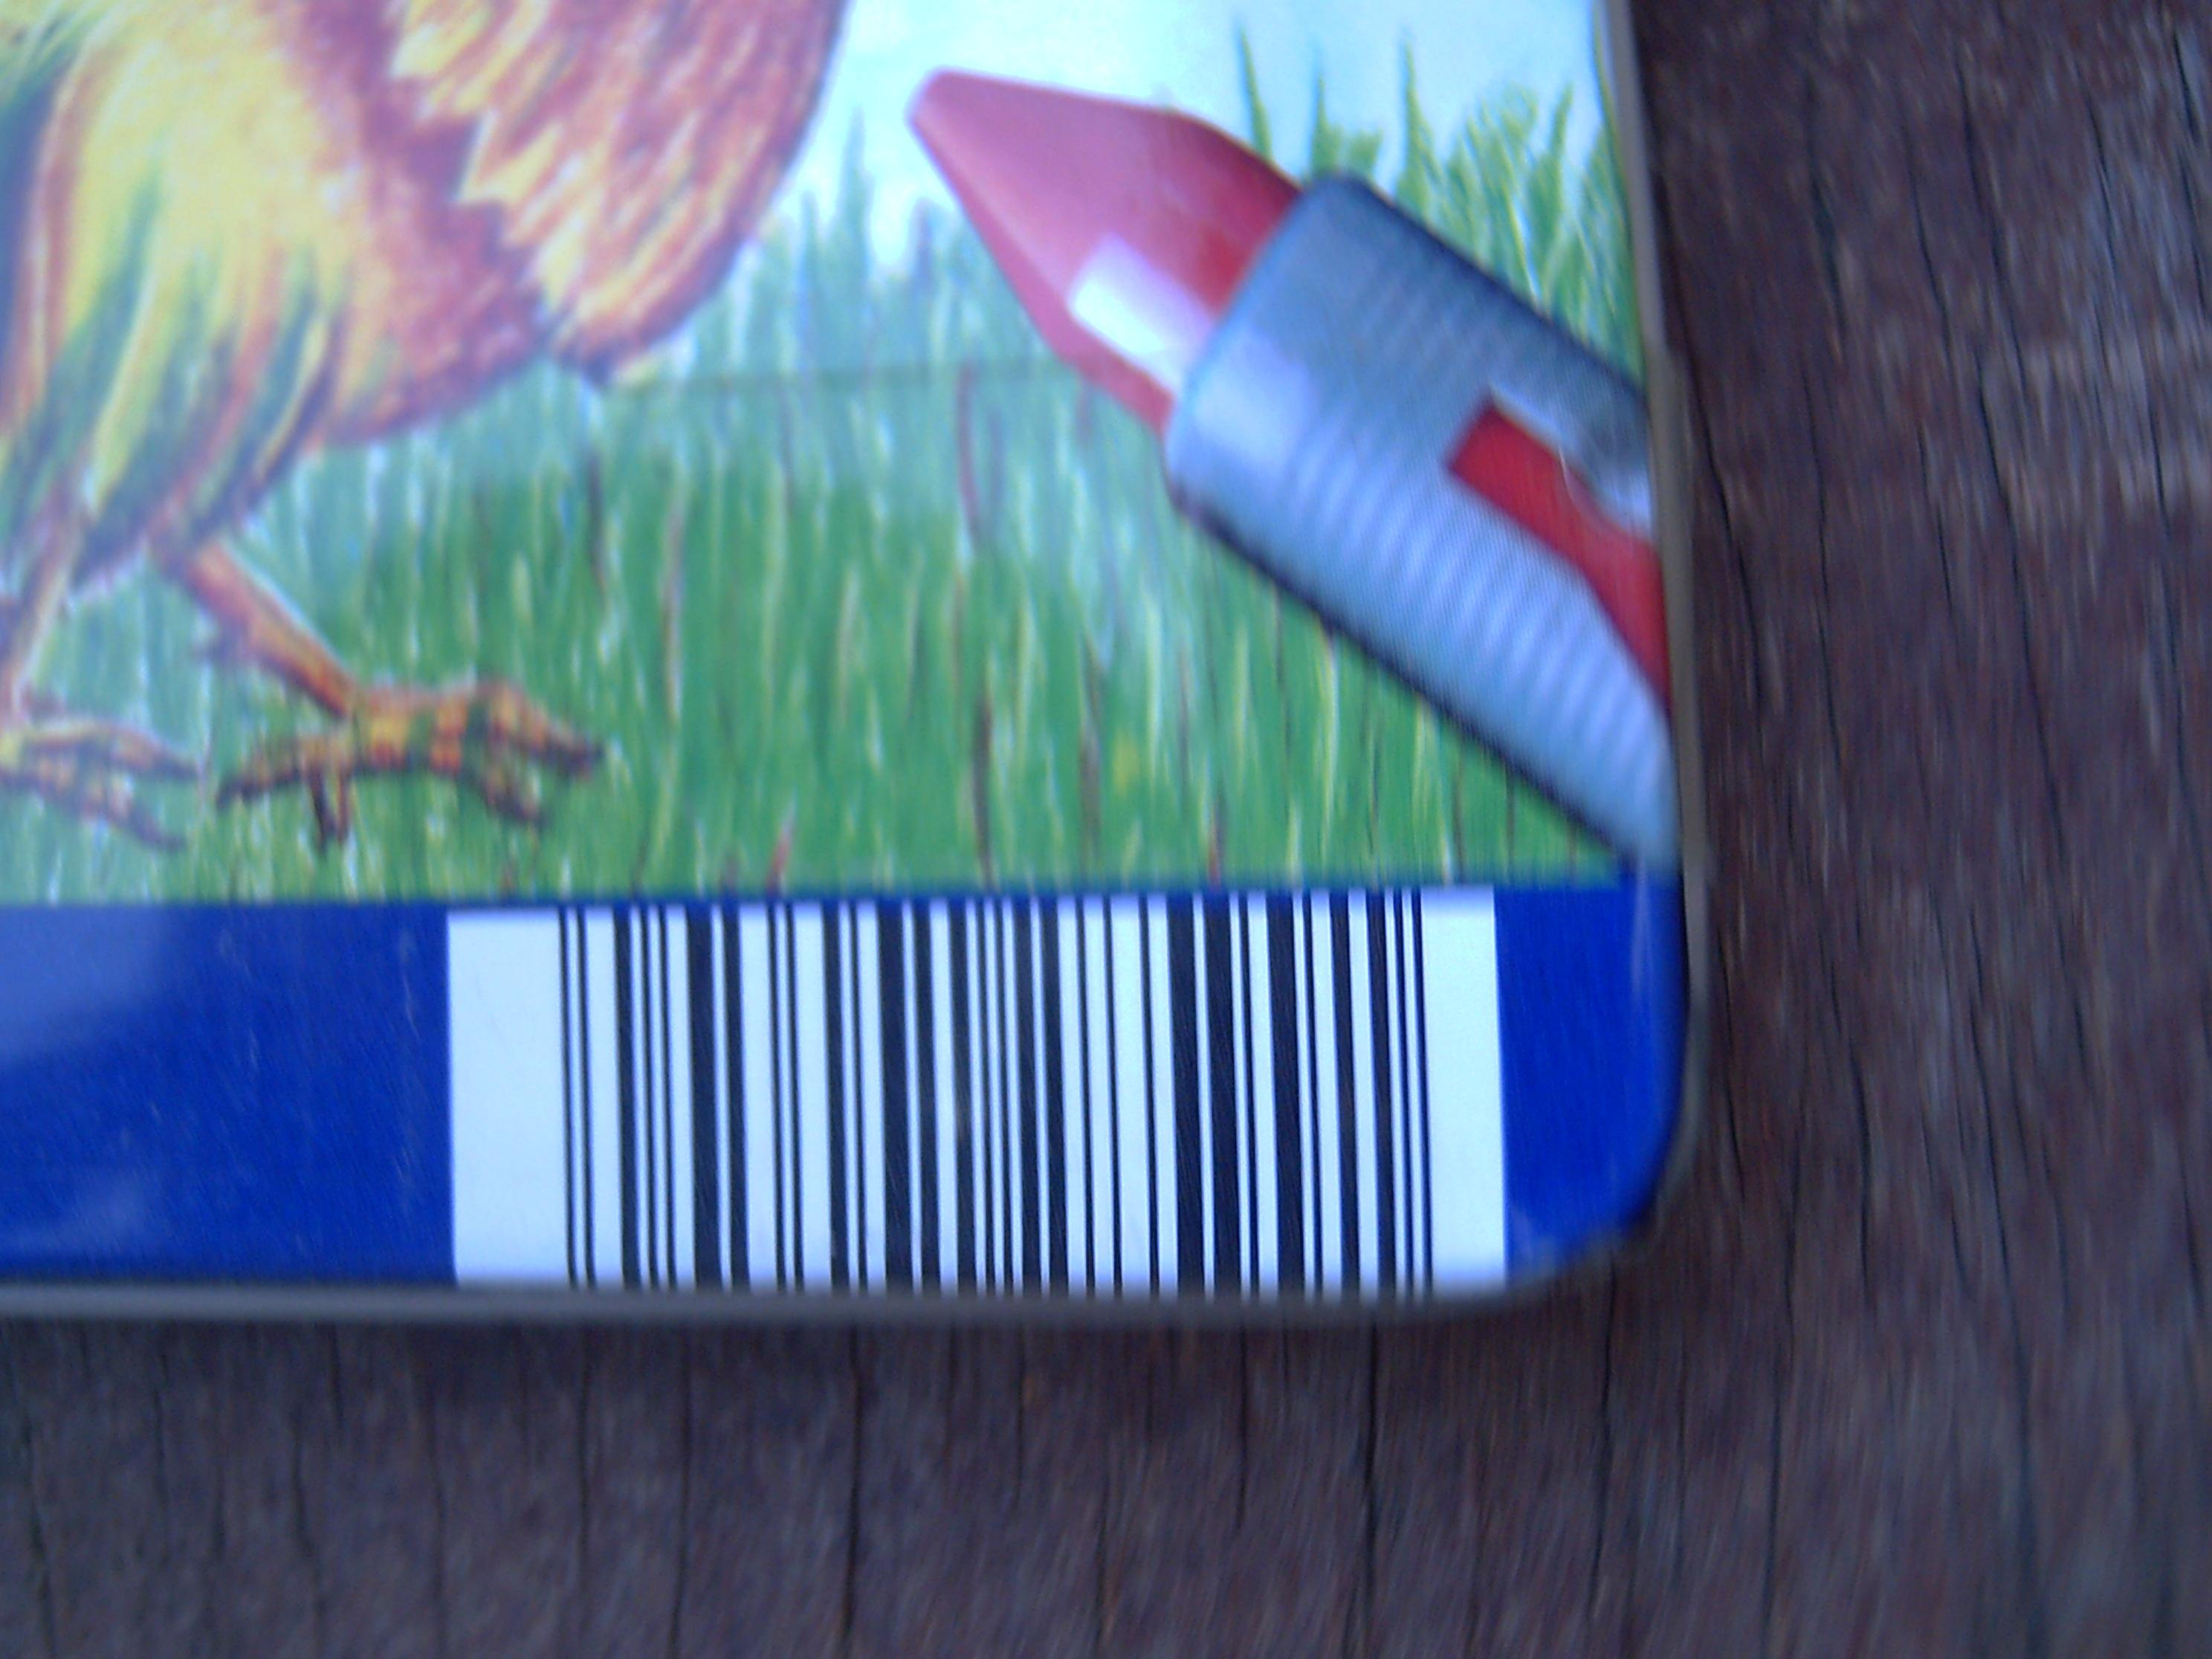barcode: (444, 892, 1510, 1321)
